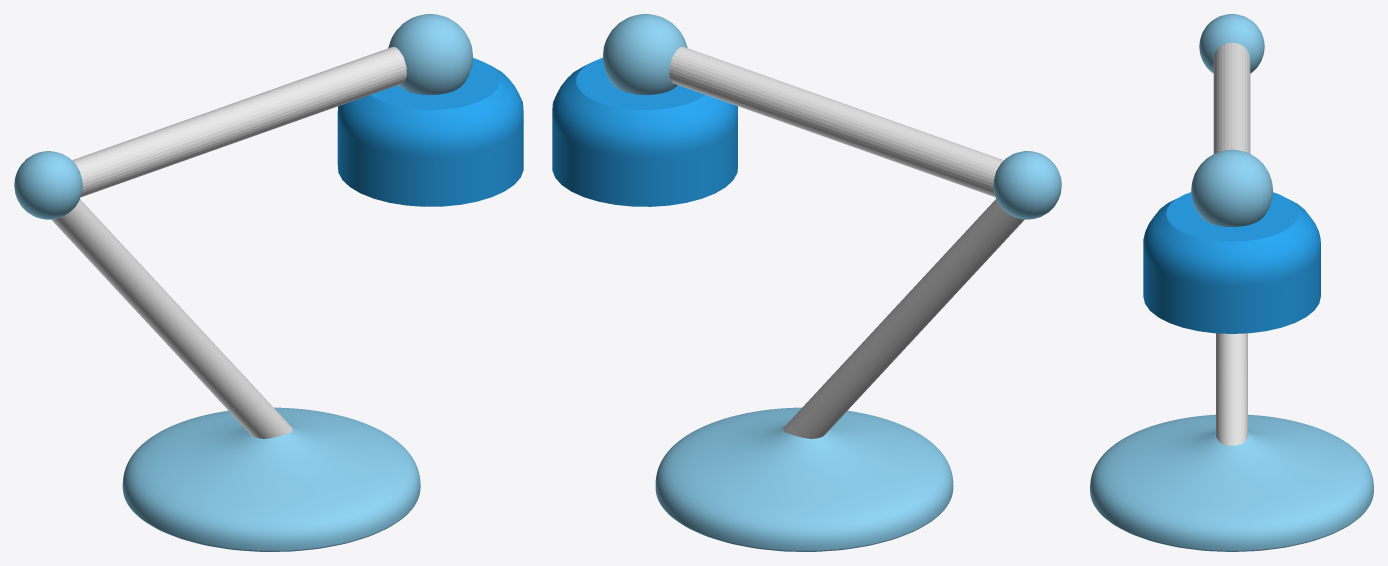
File: table lamp.fbx
The picture shows the model from 3 angles, left to right: view 1: azimuth 30°, elevation 25°; view 2: azimuth 150°, elevation 25°; view 3: azimuth 270°, elevation 25°; orthographic projection. The views are drawn at different scales.
Visible parts, largest first — view 1: base, Circle, trunk 2, trunk 1, joint 1.001, joint 1; view 2: base, Circle, trunk 2, trunk 1, joint 1.001, joint 1; view 3: base, Circle, joint 1.001, trunk 2, trunk 1, joint 1.
Part boxes in pixels (x1,y1,x2,y2): base: [122, 407, 420, 551]; Circle: [337, 58, 523, 206]; trunk 2: [72, 47, 406, 197]; trunk 1: [51, 199, 292, 438]; joint 1.001: [388, 14, 472, 94]; joint 1: [14, 151, 82, 219]; base: [655, 407, 953, 551]; Circle: [552, 58, 737, 206]; trunk 2: [669, 46, 1003, 197]; trunk 1: [783, 199, 1024, 438]; joint 1.001: [602, 14, 687, 94]; joint 1: [993, 151, 1061, 219]; base: [1090, 414, 1373, 551]; Circle: [1143, 192, 1320, 333]; joint 1.001: [1191, 149, 1272, 226]; trunk 2: [1213, 42, 1250, 153]; trunk 1: [1216, 333, 1247, 445]; joint 1: [1199, 14, 1264, 73].
Size of the model in its own units: 19.07 by 16.06 by 9.98.
